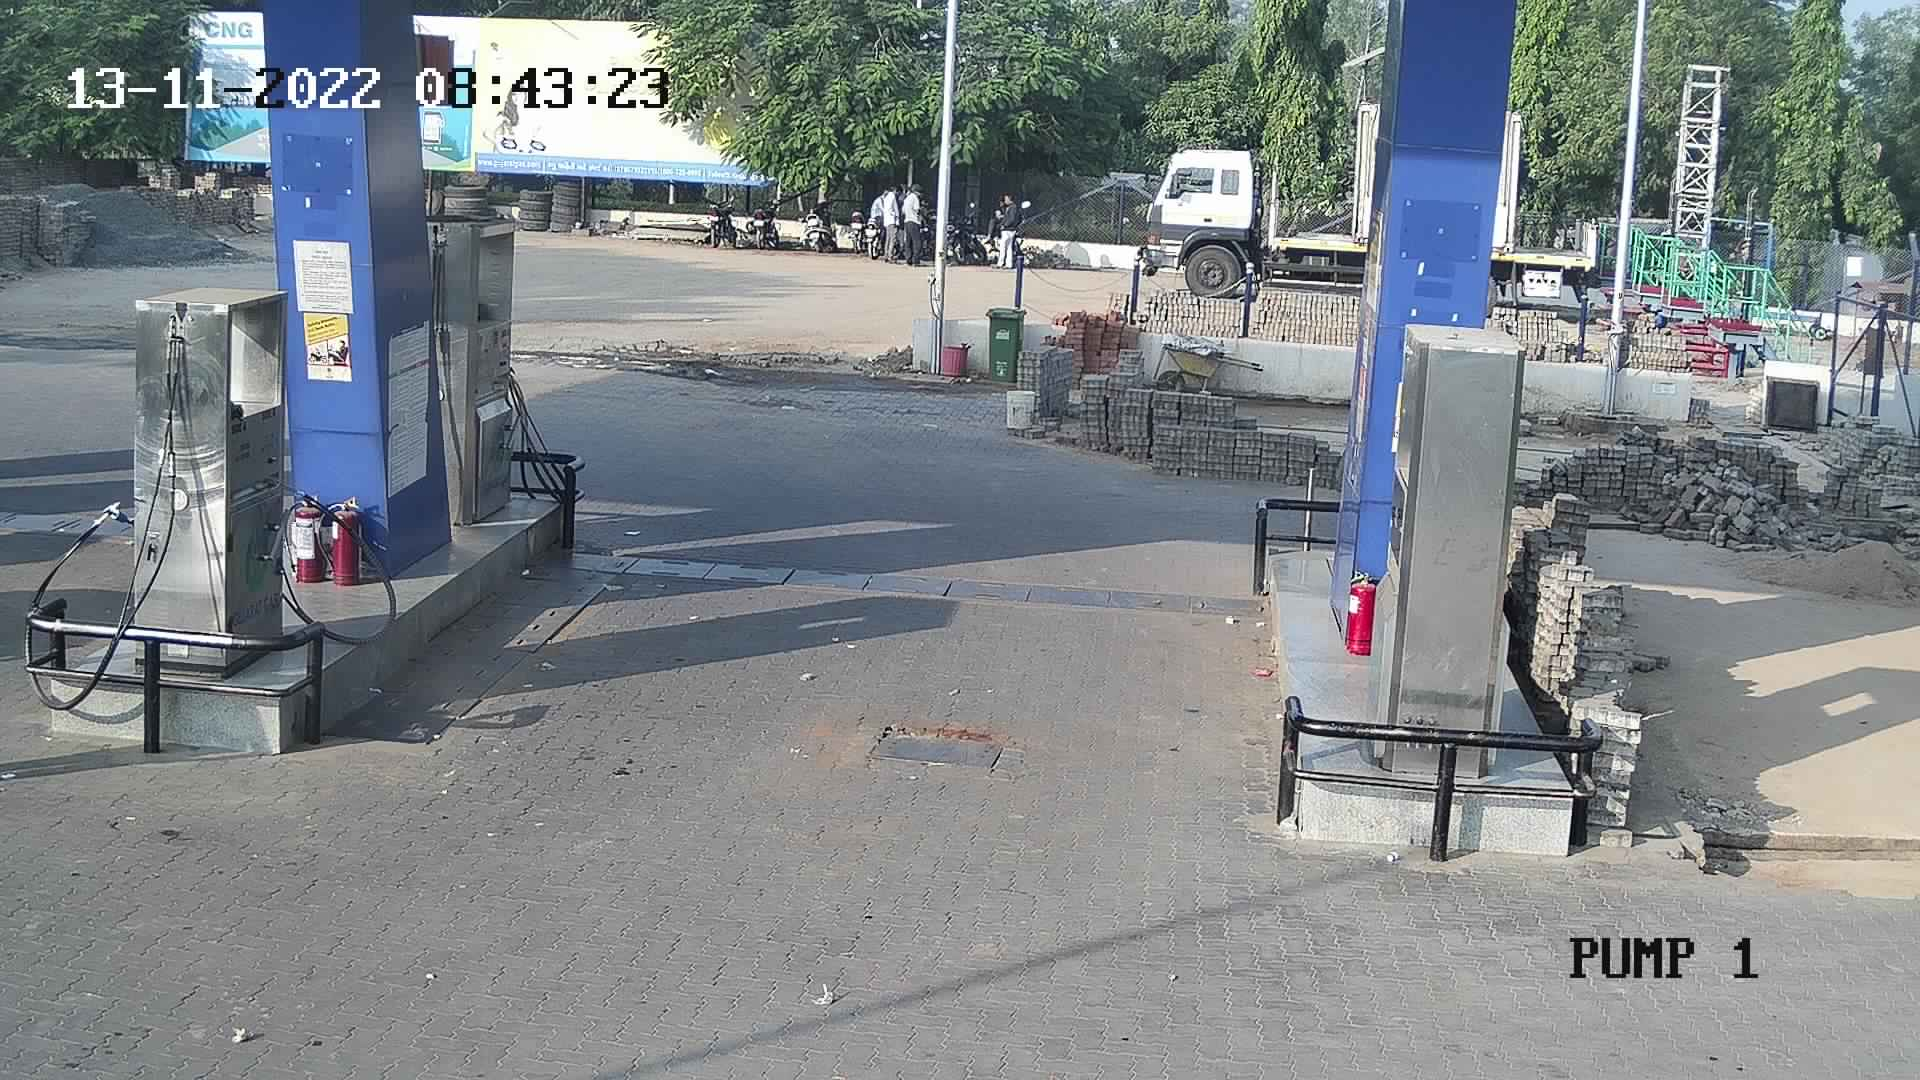Bike: (943, 187, 992, 273), (988, 191, 1040, 266), (843, 185, 893, 262), (698, 191, 750, 253), (791, 185, 837, 255), (744, 182, 789, 251)
HMV: (1116, 94, 1382, 306)
